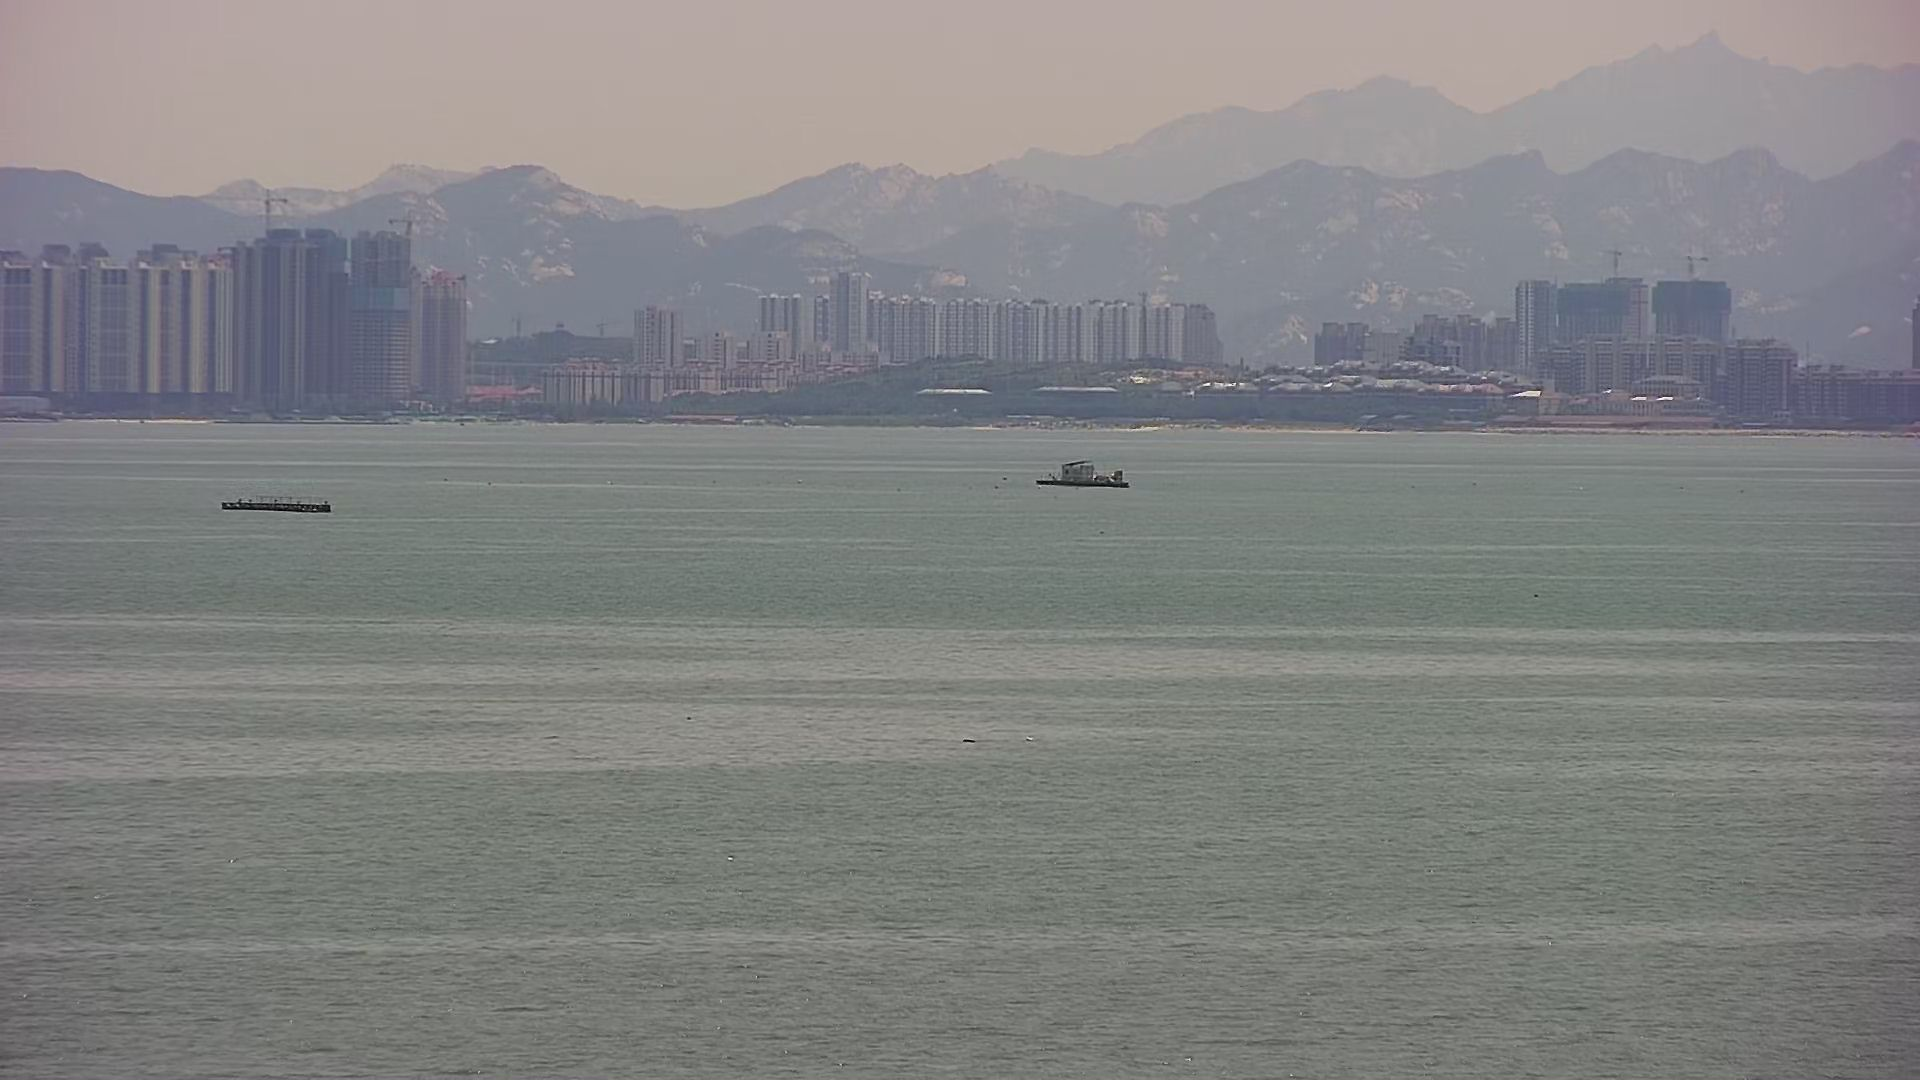platform: (1033, 458, 1133, 491), (218, 497, 336, 517)
